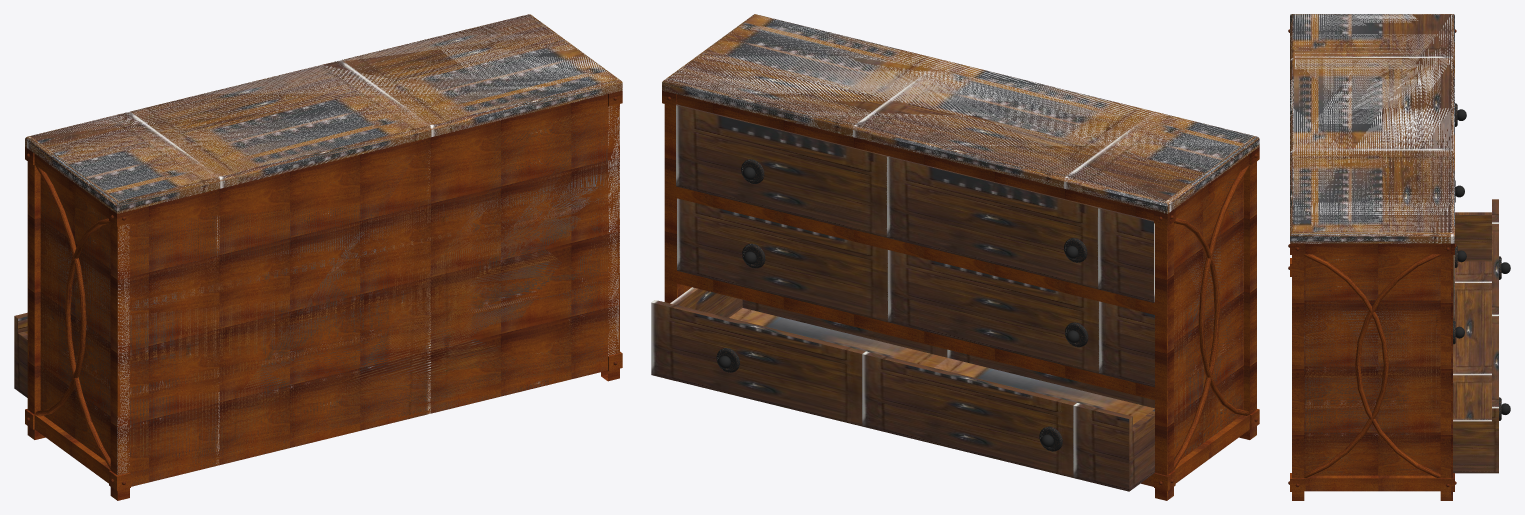
3 views of the same model, side by side, from view 1: azimuth 30°, elevation 25°; view 2: azimuth 150°, elevation 25°; view 3: azimuth 270°, elevation 25° (orthographic). The views are drawn at different scales.
Parts seen in each view (by area): view 1: mesh132_mesh132-geometry, mesh25_mesh25-geometry, mesh1_mesh1-geometry, mesh110_mesh110-geometry; view 2: mesh132_mesh132-geometry, mesh110_mesh110-geometry, mesh131_mesh131-geometry, mesh105_mesh105-geometry, mesh1_mesh1-geometry, mesh25_mesh25-geometry; view 3: mesh132_mesh132-geometry, mesh110_mesh110-geometry, mesh75_mesh75-geometry, mesh51_mesh51-geometry.
Boxes of the visible parts, x1,y1,x2,y2 form: mesh132_mesh132-geometry: (25, 14, 622, 500); mesh25_mesh25-geometry: (35, 165, 86, 416); mesh1_mesh1-geometry: (65, 218, 110, 469); mesh110_mesh110-geometry: (14, 312, 27, 397); mesh132_mesh132-geometry: (662, 14, 1259, 500); mesh110_mesh110-geometry: (651, 287, 1154, 491); mesh131_mesh131-geometry: (676, 104, 1154, 302); mesh105_mesh105-geometry: (677, 198, 1154, 387); mesh1_mesh1-geometry: (1198, 165, 1249, 415); mesh25_mesh25-geometry: (1174, 218, 1220, 469); mesh132_mesh132-geometry: (1290, 14, 1454, 500); mesh110_mesh110-geometry: (1453, 199, 1498, 473); mesh75_mesh75-geometry: (1355, 254, 1440, 477); mesh51_mesh51-geometry: (1304, 254, 1388, 477).
Bounding box in the file's own units: 0.8182 × 0.4591 × 0.3459.
